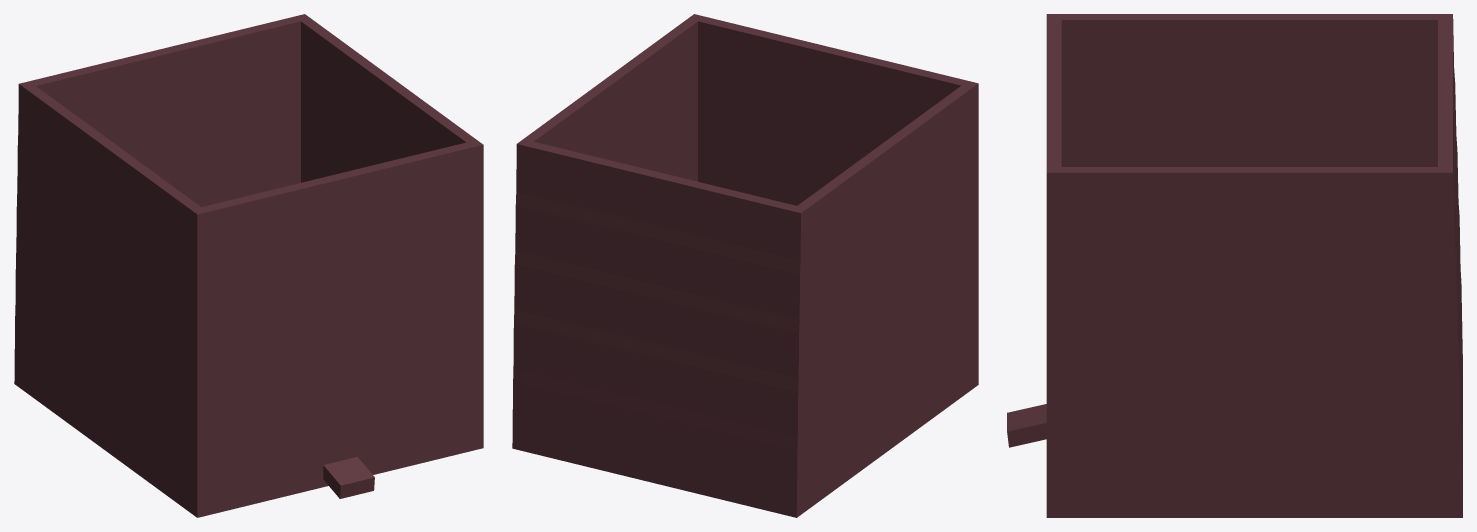
Rendered from furniture-box-cabinet-open.glb.
3 views of the same model, side by side, from view 1: azimuth 30°, elevation 25°; view 2: azimuth 150°, elevation 25°; view 3: azimuth 270°, elevation 25° (orthographic). The views are drawn at different scales.
Parts seen in each view (by area): view 1: box-cabinet-open; view 2: box-cabinet-open; view 3: box-cabinet-open.
Part boxes in pixels (x1,y1,x2,y2): box-cabinet-open: (14, 14, 483, 517); box-cabinet-open: (512, 14, 978, 517); box-cabinet-open: (1007, 14, 1462, 517).
Size of the model in its own units: 0.2993 by 0.3033 by 0.363.
